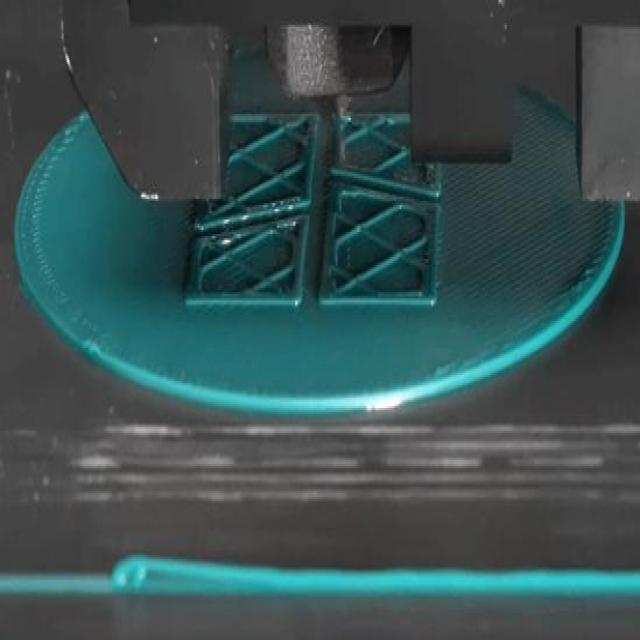Without deffect: (174, 85, 468, 327)
